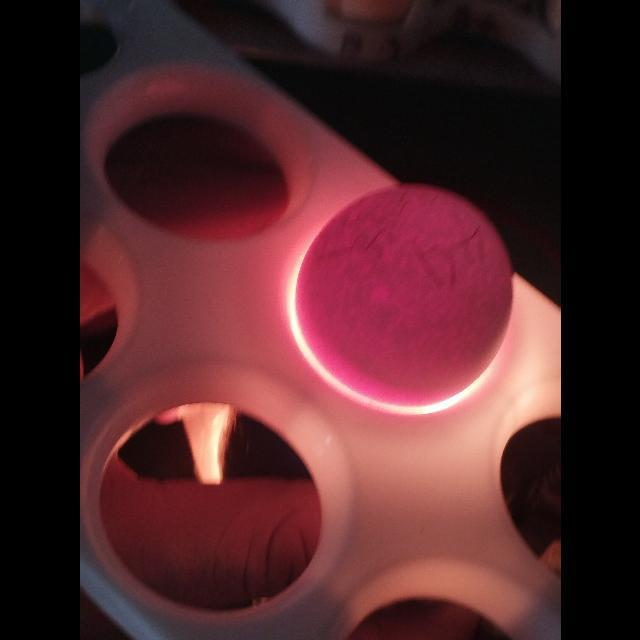Fertile: (304, 178, 512, 402)
